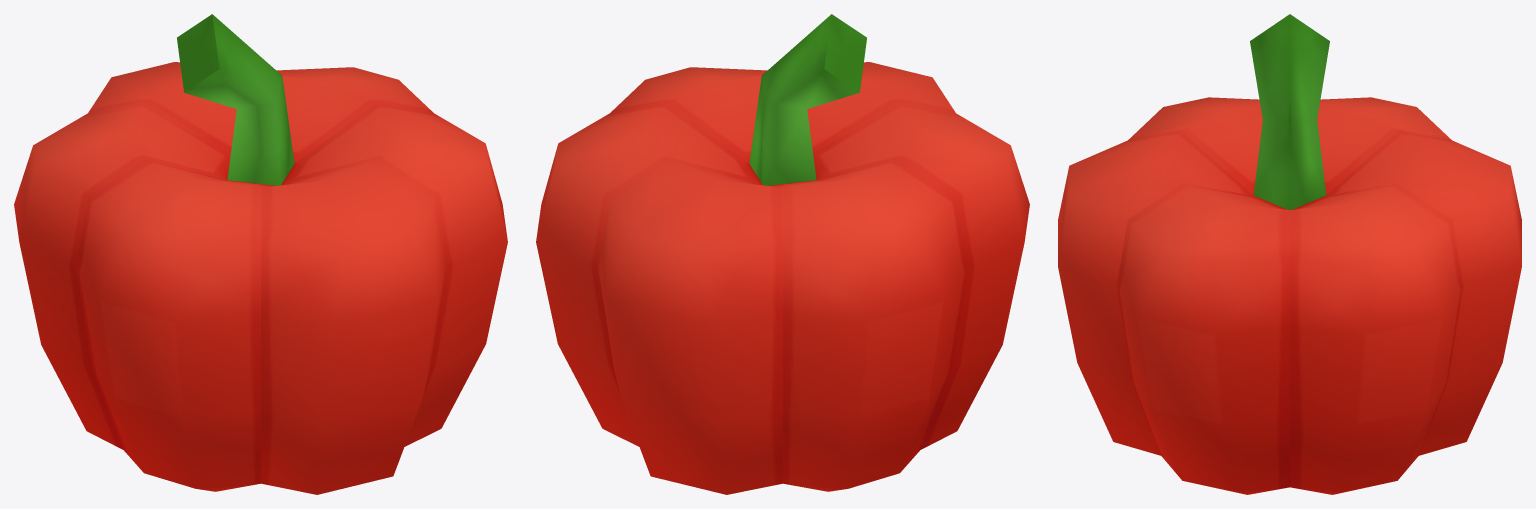
File: Food_Vegetables_Pepper.gltf
3 views of the same model, side by side, from view 1: azimuth 30°, elevation 25°; view 2: azimuth 150°, elevation 25°; view 3: azimuth 270°, elevation 25° (orthographic). The views are drawn at different scales.
Parts seen in each view (by area): view 1: Food_Vegetables_Pepper; view 2: Food_Vegetables_Pepper; view 3: Food_Vegetables_Pepper.
Boxes of the visible parts, <box> form: Food_Vegetables_Pepper: <box>14,14,507,494</box>; Food_Vegetables_Pepper: <box>536,14,1029,494</box>; Food_Vegetables_Pepper: <box>1058,14,1521,494</box>.
Bounding box in the file's own units: 0.1531 × 0.1662 × 0.1633.
Materials: 1 (1 with a texture image).
